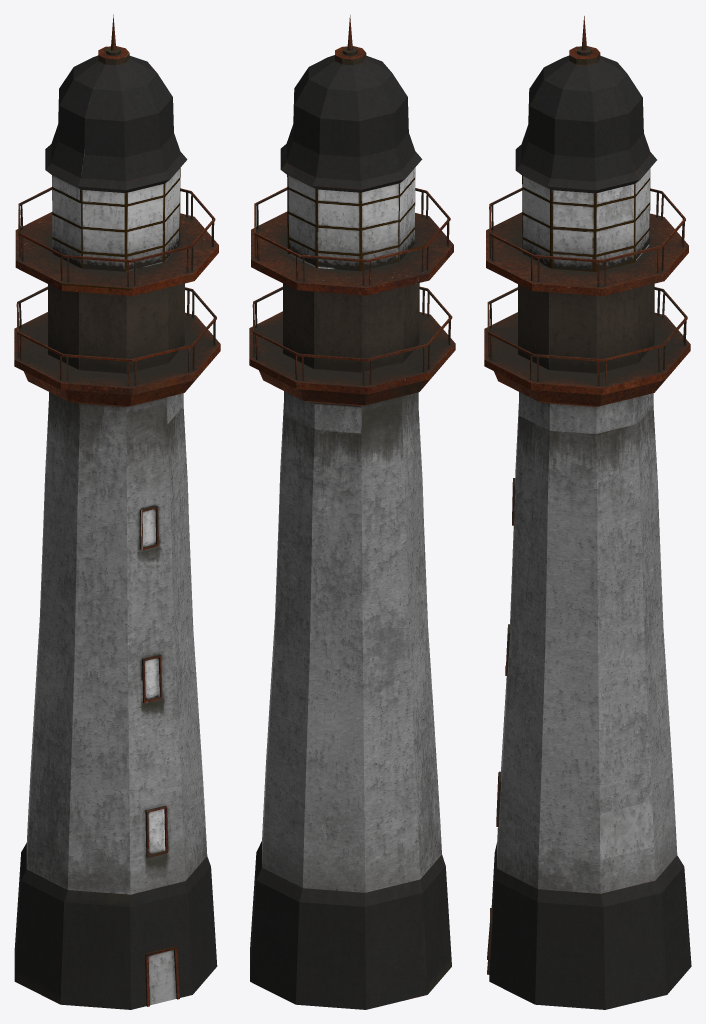
The model's file is Light_House.fbx.
3 renders of one model, left to right at view 1: azimuth 30°, elevation 25°; view 2: azimuth 150°, elevation 25°; view 3: azimuth 270°, elevation 25°, orthographic.
Parts seen in each view (by area): view 1: Cylinder.003; view 2: Cylinder.003; view 3: Cylinder.003.
Boxes of the visible parts, bbox=[...] form: Cylinder.003: bbox=[14, 14, 220, 1009]; Cylinder.003: bbox=[249, 15, 455, 1009]; Cylinder.003: bbox=[484, 16, 691, 1009].
Size of the model in its own units: 929 by 4662 by 919.
